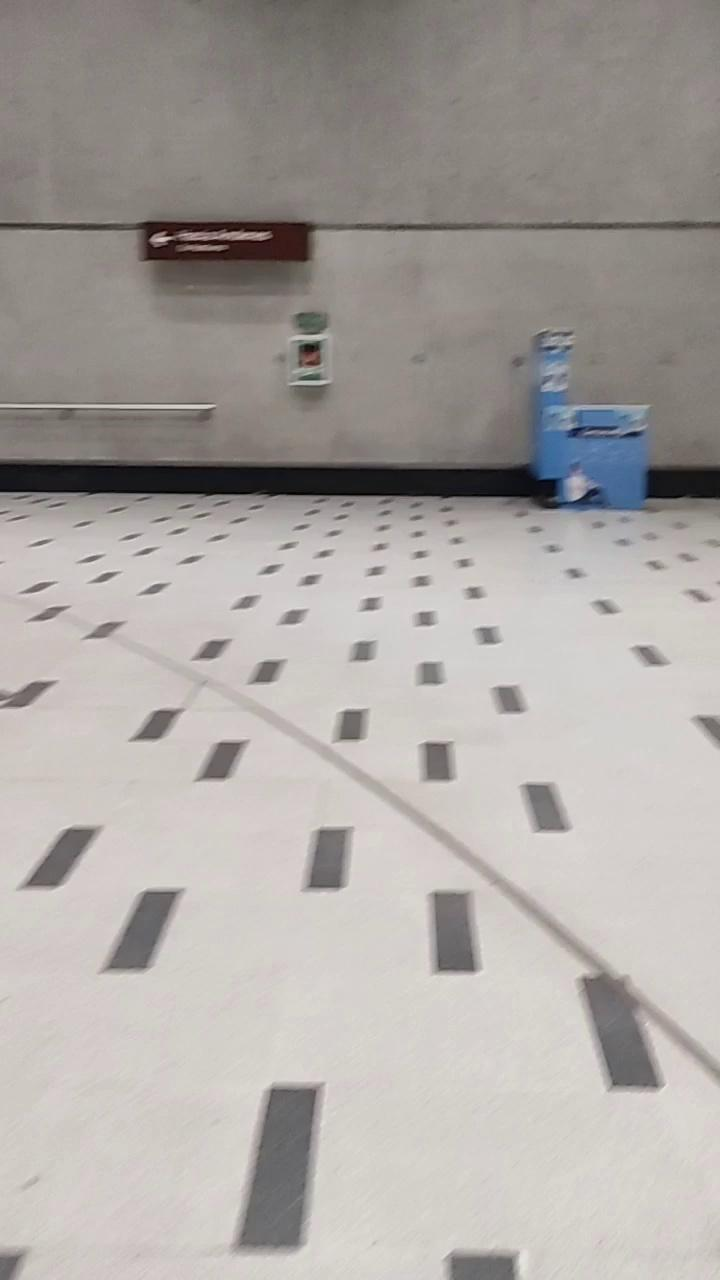left arrow: (148, 226, 172, 251)
